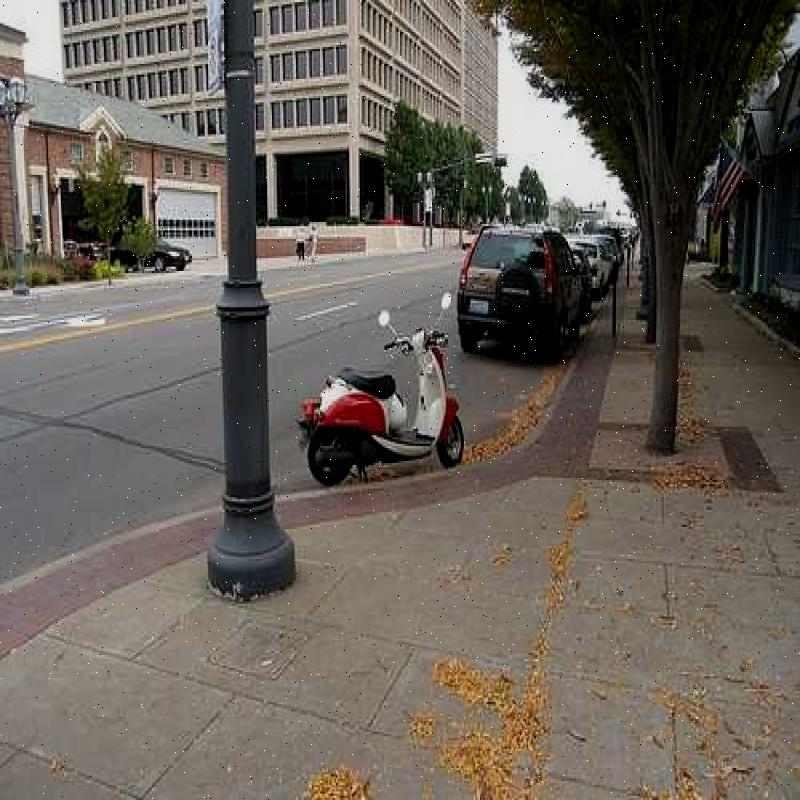bike: (294, 304, 481, 474)
